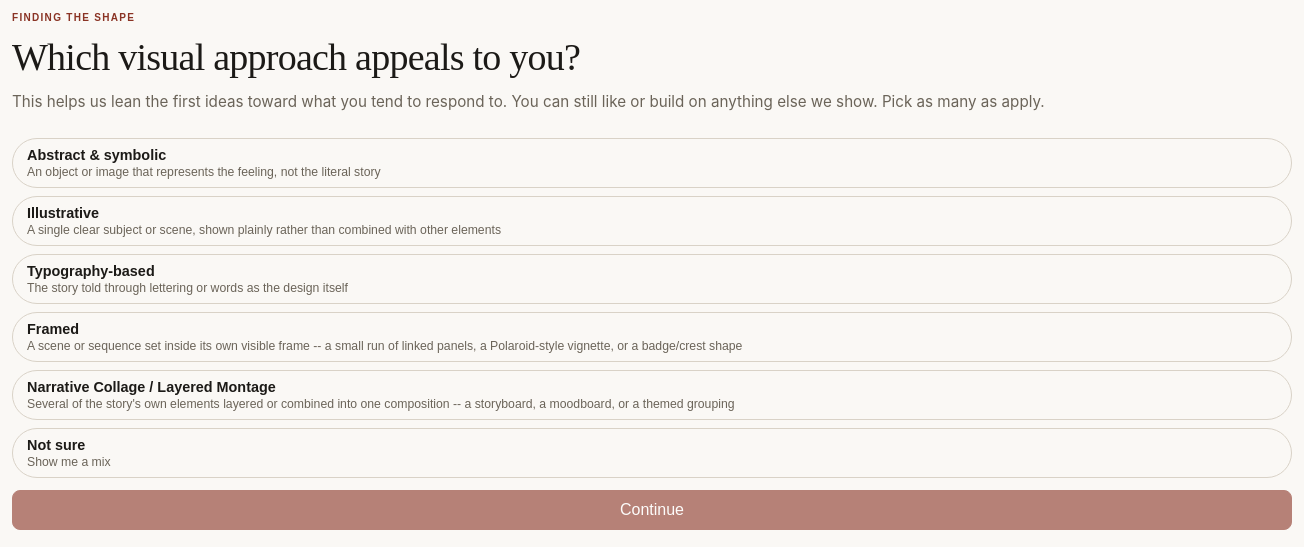
Test: VisualStylePreference › Continue is disabled until at least one option is selected
The image size is (1304, 547).
Check: the button "Continue" is disabled, box [12,490,1292,530]
Click the button "Abstract & symbolic".
click(97, 155)  # box [12,138,1292,188]
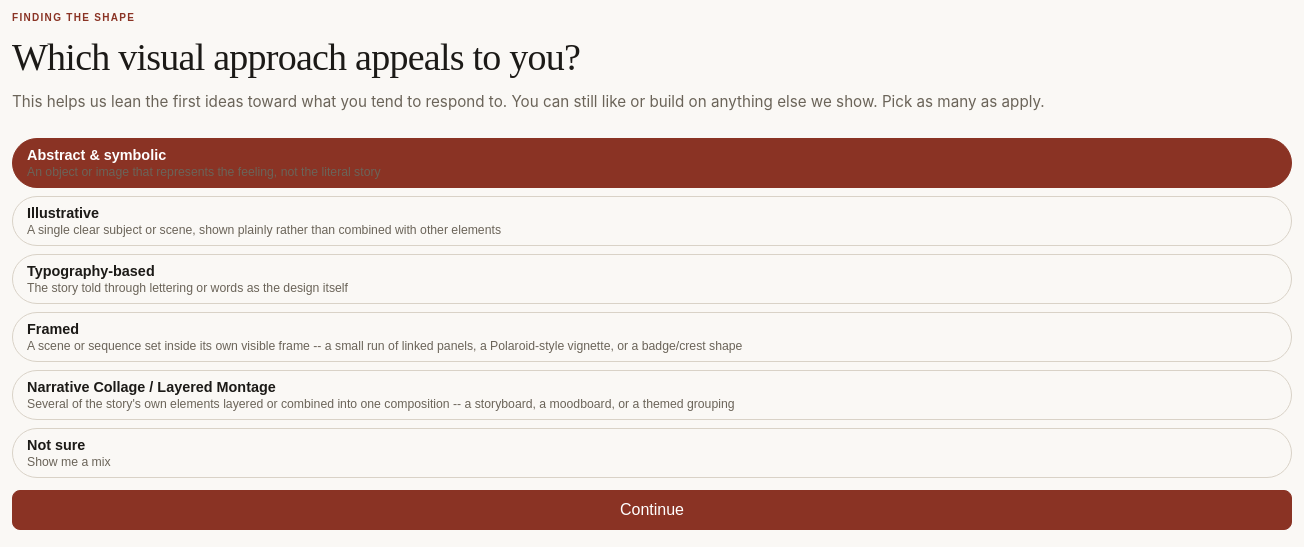
Check: the button "Continue" is enabled, box [12,490,1292,530]
